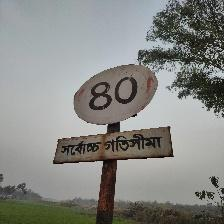Speed-limit: (54, 62, 171, 165)
